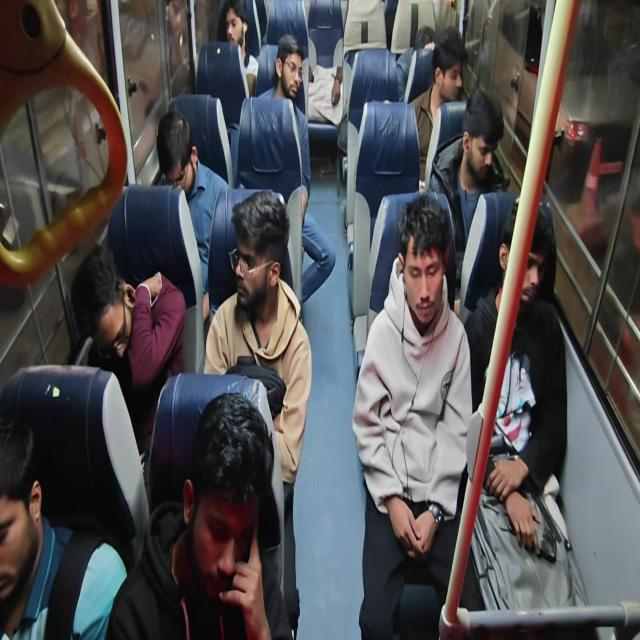person: (0, 418, 116, 640), (164, 379, 270, 582), (63, 253, 167, 399), (372, 196, 478, 333), (504, 203, 579, 351), (222, 175, 290, 321), (152, 102, 228, 227), (296, 55, 350, 156), (432, 39, 484, 137), (468, 108, 513, 210), (220, 8, 262, 76), (281, 21, 310, 108)
